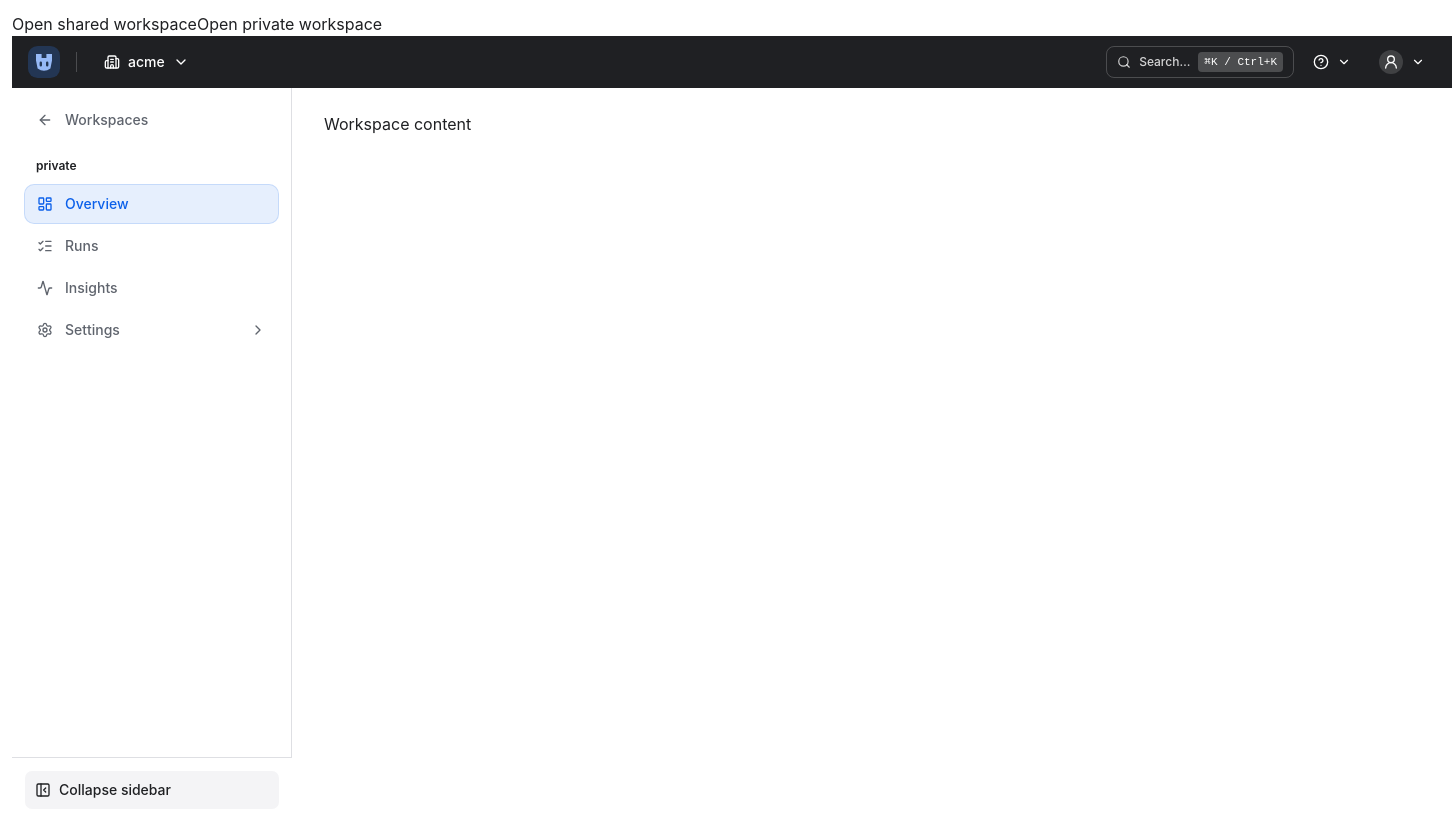
Test: only shows state and variable navigation for the current workspace permissions
The width and height of the screenshot is (1452, 822).
Expected: the link "States" is not shown
Expected: the link "Variables" is not shown
What coordinates should you click on to do the following:
click the link "Open shared workspace"
I would click on:
 (104, 24)
Its box is [12, 14, 197, 34].
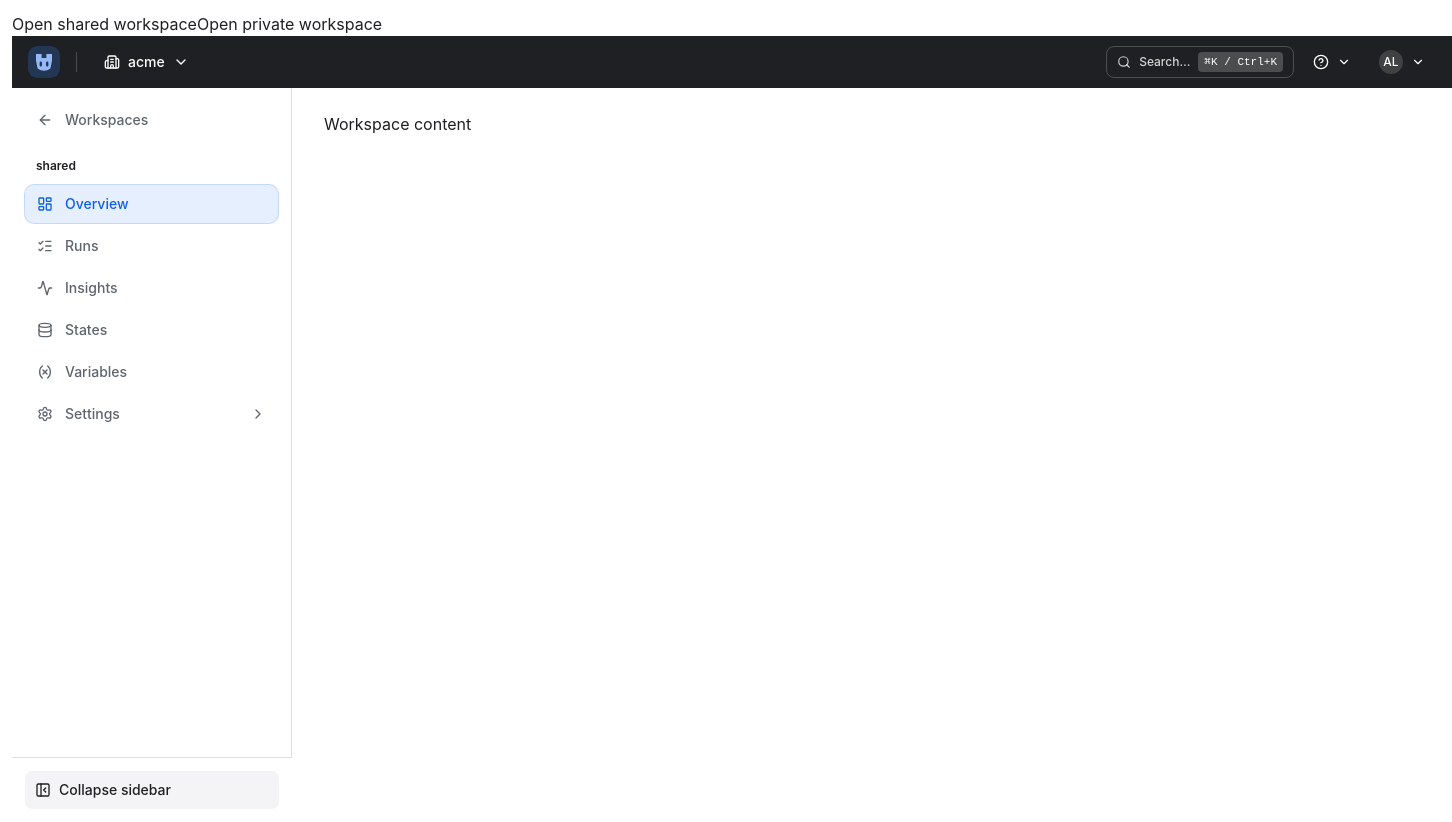
Result: the link "States" is shown at [37, 321, 107, 338]
Result: the link "Variables" is shown at [37, 363, 127, 380]
What coordinates should you click on to do the following:
click the link "Open private workspace"
I would click on:
 (290, 24)
Its box is [197, 14, 382, 34].
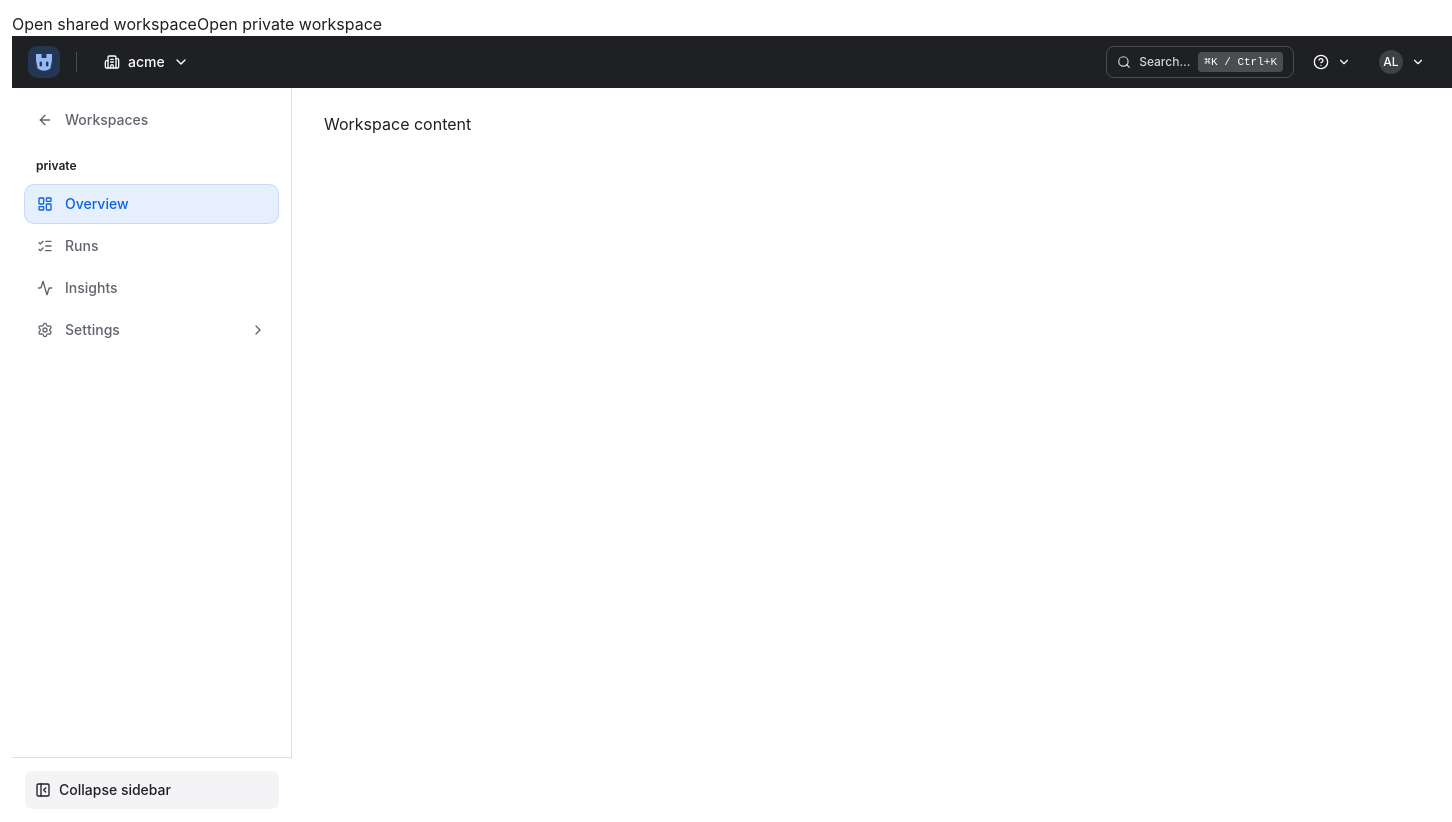
Result: the link "States" is gone
Result: the link "Variables" is gone
